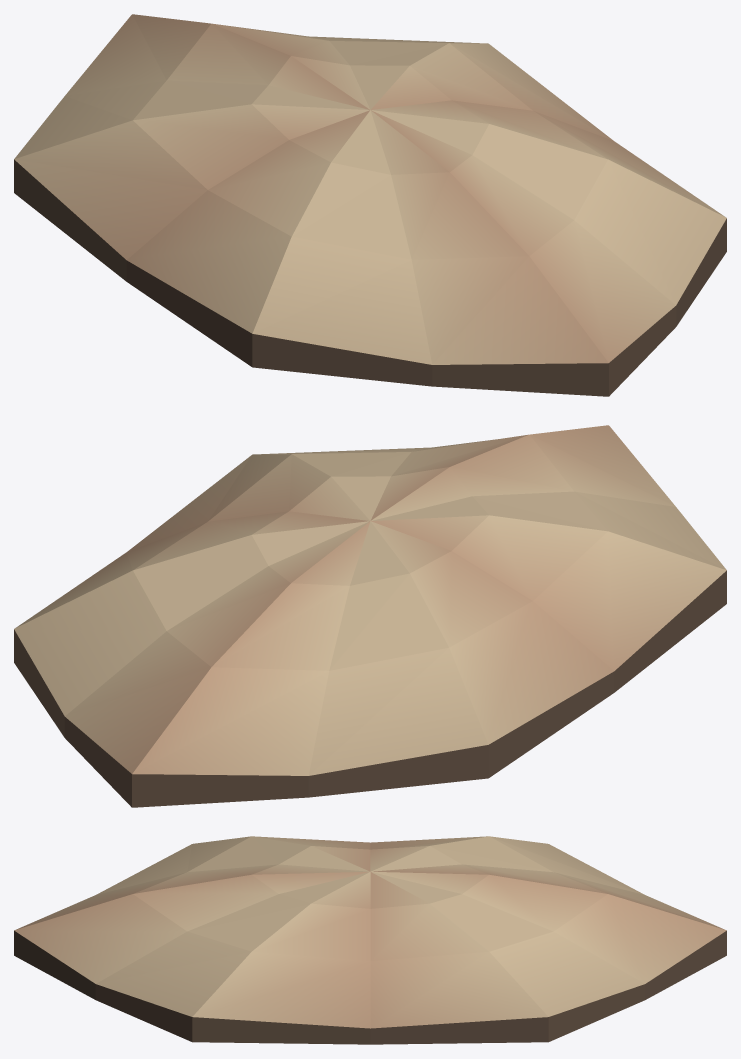
The model's file is beach-shell-oval-v1.glb.
3 renders of one model, top to bottom at view 1: azimuth 30°, elevation 25°; view 2: azimuth 150°, elevation 25°; view 3: azimuth 270°, elevation 25°, orthographic. The views are drawn at different scales.
Visible parts, largest first — view 1: beach-shell-oval-v1; view 2: beach-shell-oval-v1; view 3: beach-shell-oval-v1.
Part boxes in pixels (x1,y1,x2,y2): beach-shell-oval-v1: [14, 14, 726, 396]; beach-shell-oval-v1: [14, 425, 726, 807]; beach-shell-oval-v1: [14, 836, 726, 1044].
Size of the model in its own units: 0.5913 by 0.13 by 1.
